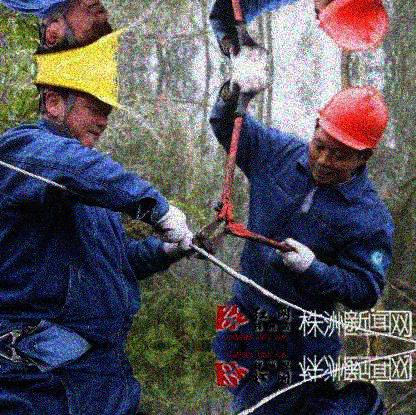helmet: (307, 85, 388, 185), (36, 66, 128, 153), (35, 1, 129, 68)
